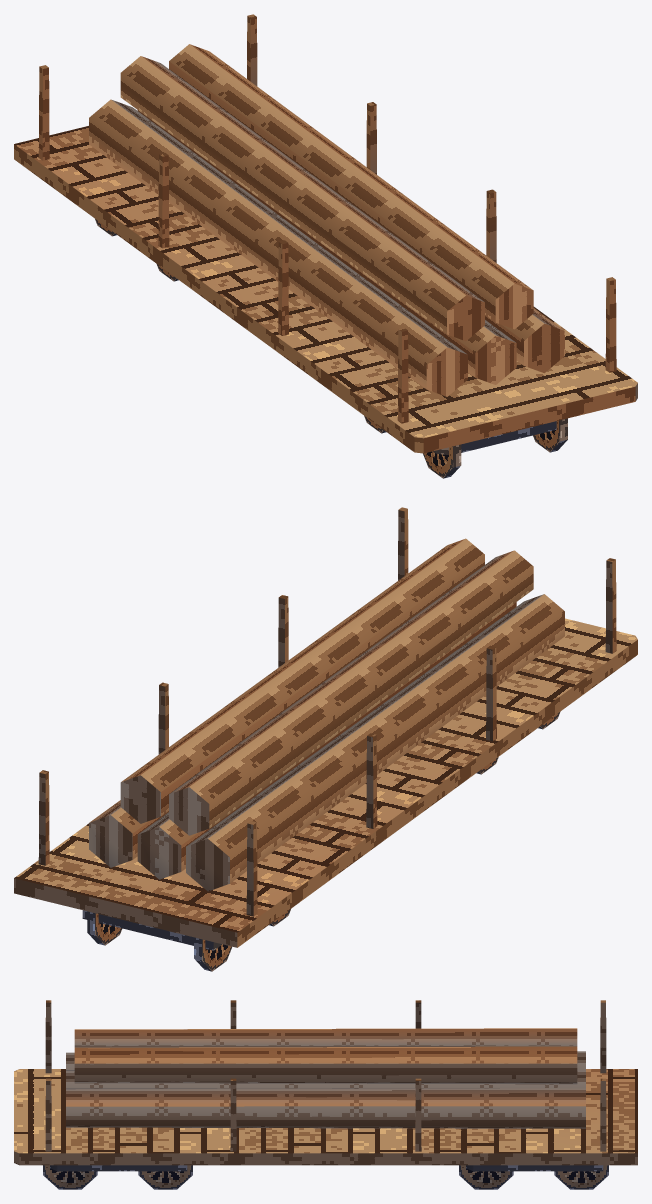
File: wrail.car__flatcar.glb
3 views of the same model, one above another, from view 1: azimuth 30°, elevation 25°; view 2: azimuth 150°, elevation 25°; view 3: azimuth 270°, elevation 25° (orthographic). The views are drawn at different scales.
Visible parts, largest first — view 1: kit_load, kit_frame, kit_stakes, kit_wheels, kit_trucks; view 2: kit_load, kit_frame, kit_stakes, kit_wheels, kit_trucks; view 3: kit_load, kit_frame, kit_stakes, kit_wheels, kit_trucks.
Boxes of the visible parts, left/top/right/bottom form: kit_load: left=89, top=44, right=564, bottom=396; kit_frame: left=14, top=126, right=637, bottom=453; kit_stakes: left=38, top=14, right=616, bottom=423; kit_wheels: left=95, top=219, right=567, bottom=478; kit_trucks: left=433, top=421, right=556, bottom=454; kit_load: left=89, top=538, right=564, bottom=891; kit_frame: left=14, top=618, right=637, bottom=947; kit_stakes: left=38, top=507, right=616, bottom=916; kit_wheels: left=87, top=711, right=560, bottom=971; kit_trucks: left=82, top=910, right=221, bottom=950; kit_load: left=66, top=1028, right=585, bottom=1128; kit_frame: left=14, top=1069, right=637, bottom=1165; kit_stakes: left=45, top=1000, right=606, bottom=1151; kit_wheels: left=43, top=1165, right=608, bottom=1189; kit_trucks: left=50, top=1165, right=603, bottom=1171.
Bounding box in the file's own units: 2.3 × 1.66 × 7.2.
Materials: 5 (5 with a texture image).
